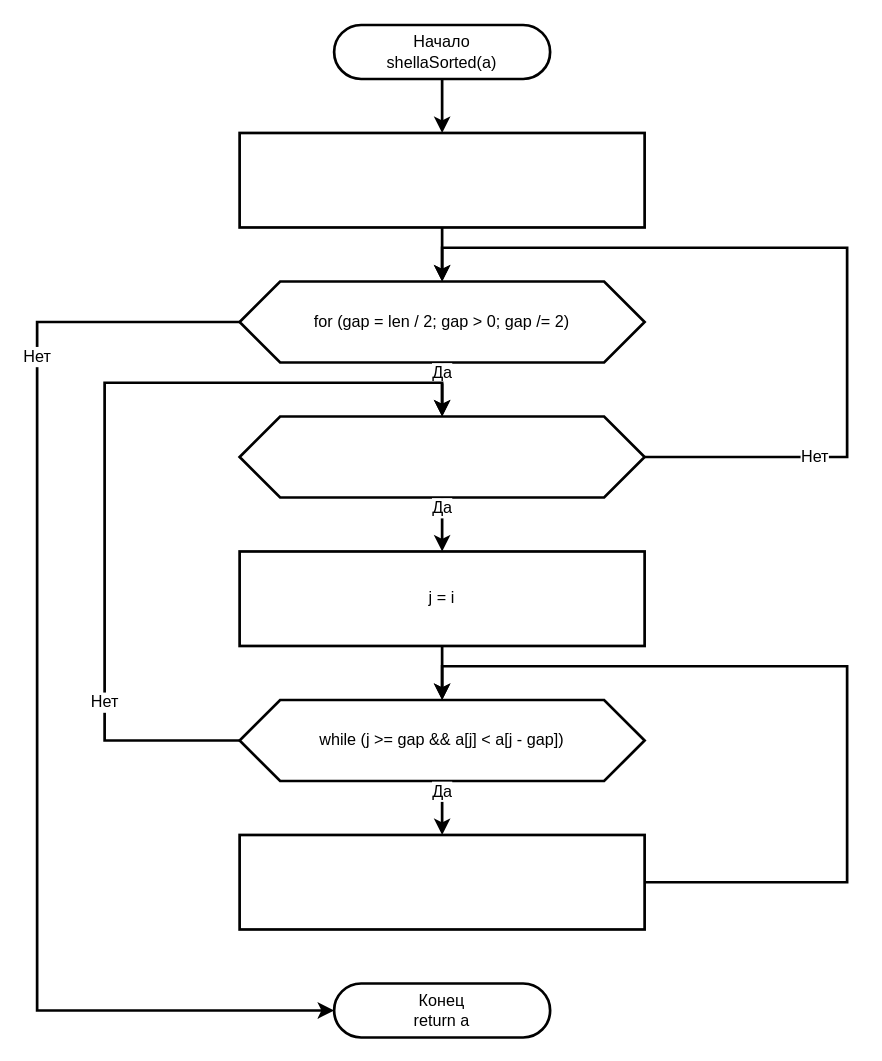
This 882x1061 diagram has some shape labels left out. Each missing label, with the box of its shape:
for (i = gap; i < len; i++): (238, 414, 645, 498)
len = a.Length: (238, 131, 645, 228)
vrem = a[j] a[j] = a[j - gap] a[j - gap] = vrem j -= gap: (238, 833, 645, 930)
